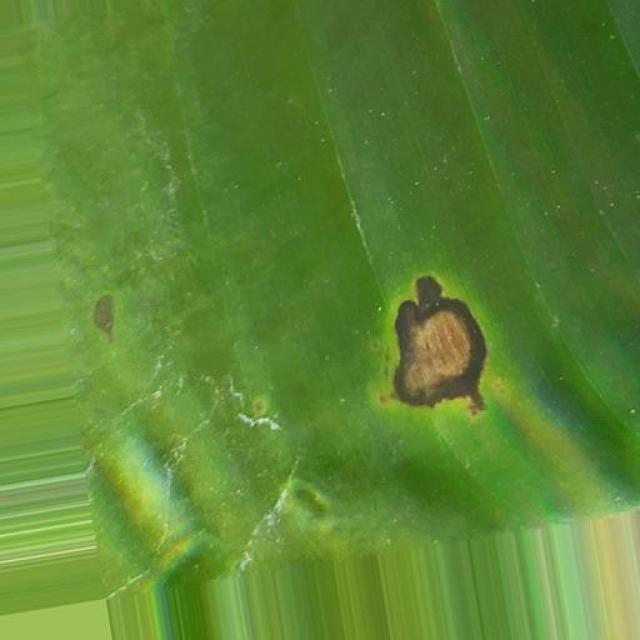Early_rust: (352, 253, 530, 439), (70, 254, 133, 356)
